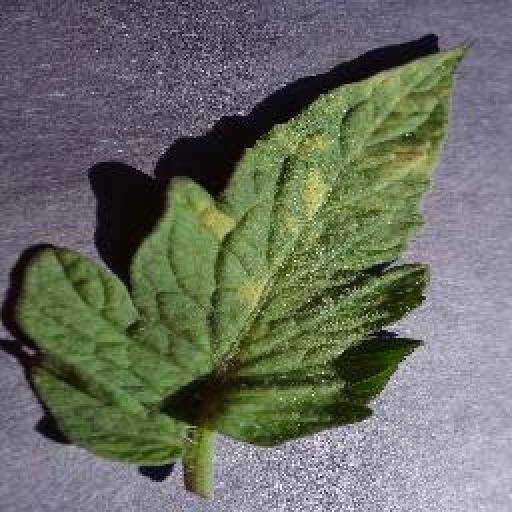Leaf Mold: (16, 37, 478, 467)
